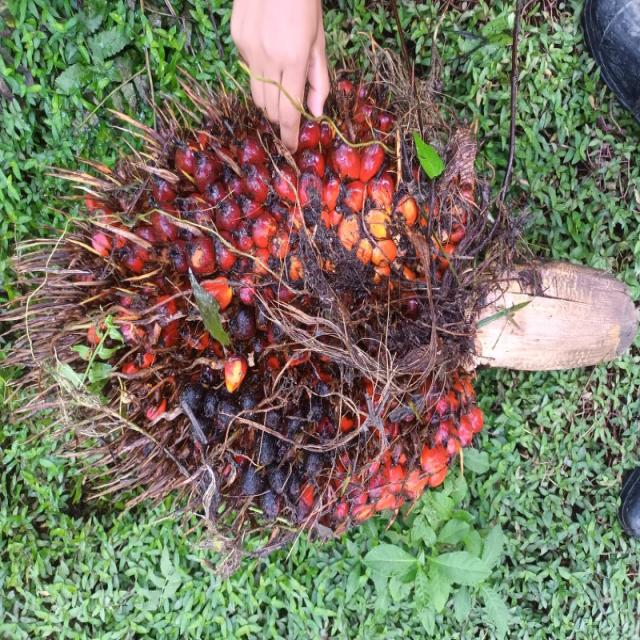fraksi 3: (144, 19, 593, 584)
